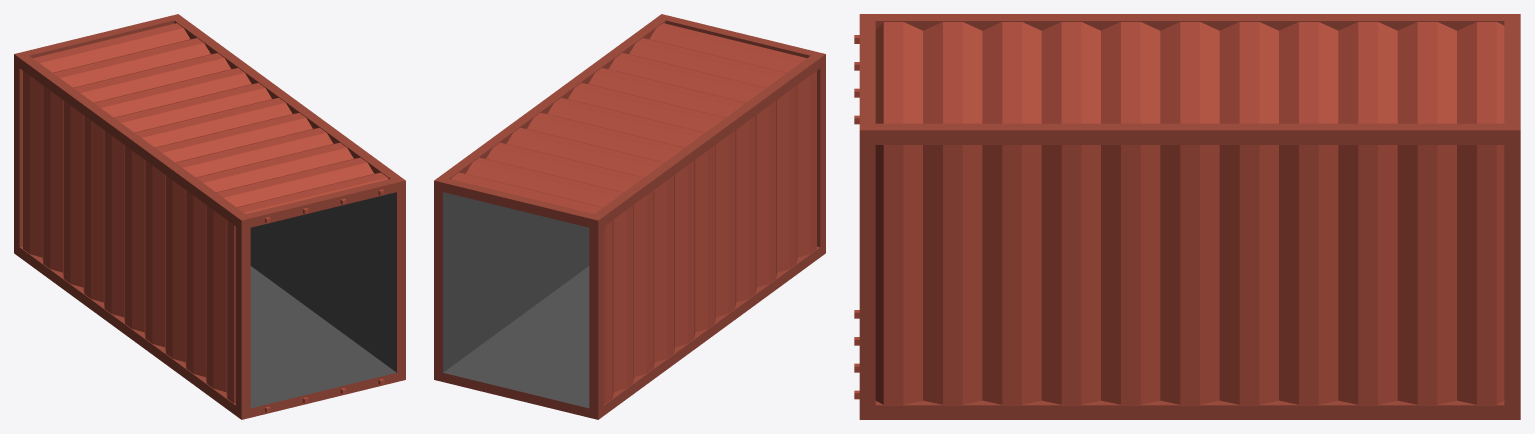
File: ShippingContainer_01.fbx
3 views of the same model, side by side, from view 1: azimuth 30°, elevation 25°; view 2: azimuth 150°, elevation 25°; view 3: azimuth 270°, elevation 25° (orthographic). The views are drawn at different scales.
Parts seen in each view (by area): view 1: ShippingContainer_01; view 2: ShippingContainer_01; view 3: ShippingContainer_01.
Boxes of the visible parts, x1,y1,x2,y2 form: ShippingContainer_01: [14, 14, 405, 419]; ShippingContainer_01: [434, 14, 825, 419]; ShippingContainer_01: [854, 14, 1520, 419].
Size of the model in its own units: 250 by 290 by 605.
